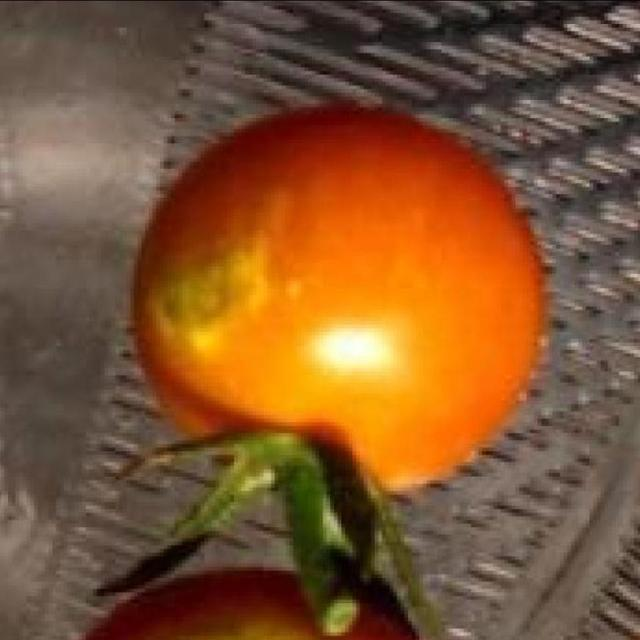Sunscald Fruit: (95, 122, 214, 240)
